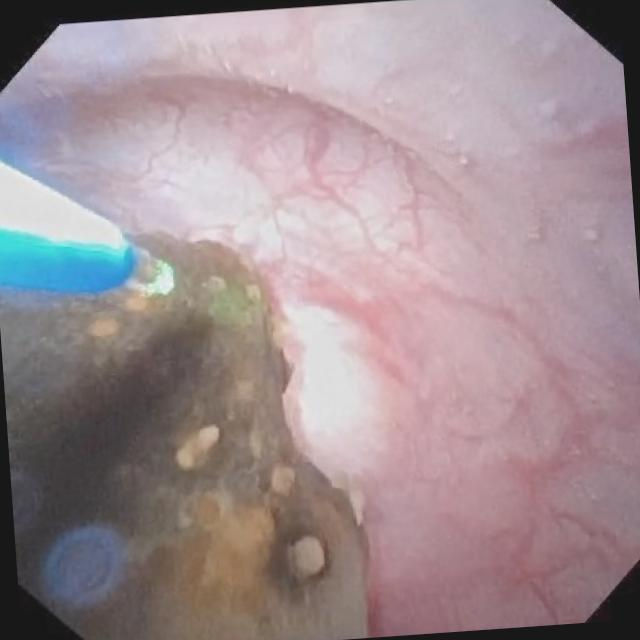laser-fibre: (126, 253, 170, 293)
laser_dot: (209, 276, 259, 324)
stone-new: (1, 233, 366, 640)
